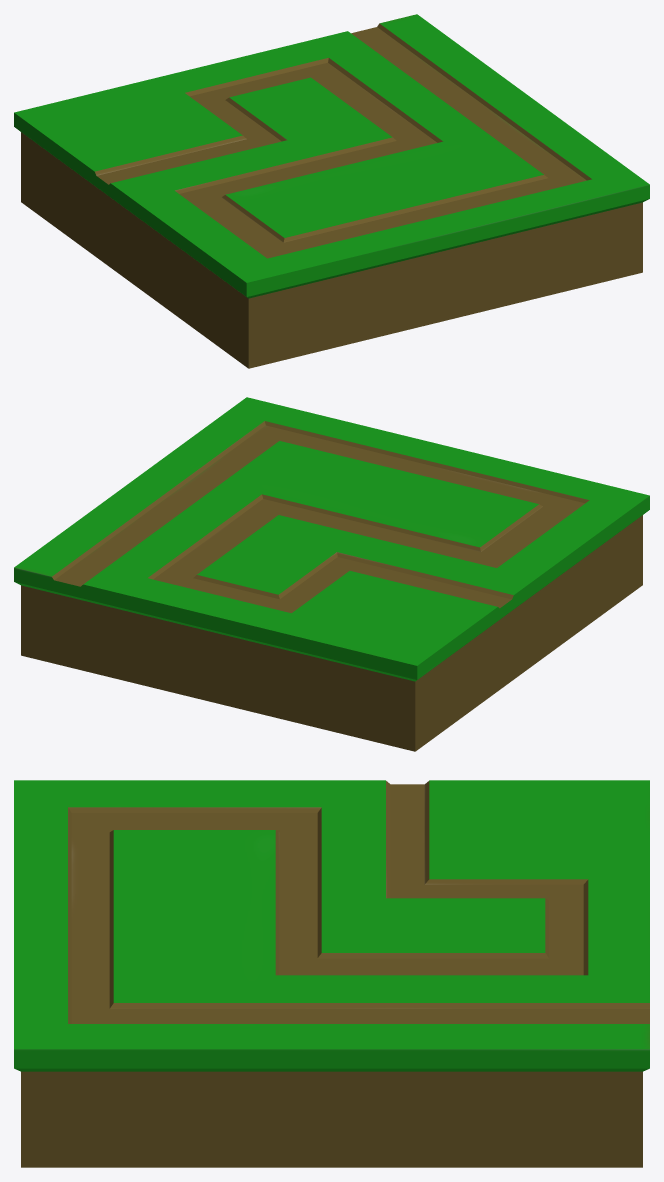
The model's file is MapGround_01.fbx.
3 renders of one model, top to bottom at view 1: azimuth 30°, elevation 25°; view 2: azimuth 150°, elevation 25°; view 3: azimuth 270°, elevation 25°, orthographic. The views are drawn at different scales.
Parts seen in each view (by area): view 1: Cube; view 2: Cube; view 3: Cube.
Boxes of the visible parts, left/top/right/bottom form: Cube: left=14, top=14, right=649, bottom=368; Cube: left=14, top=397, right=649, bottom=751; Cube: left=14, top=780, right=649, bottom=1167.
Bounding box in the file's own units: 2000 × 421 × 2000.
